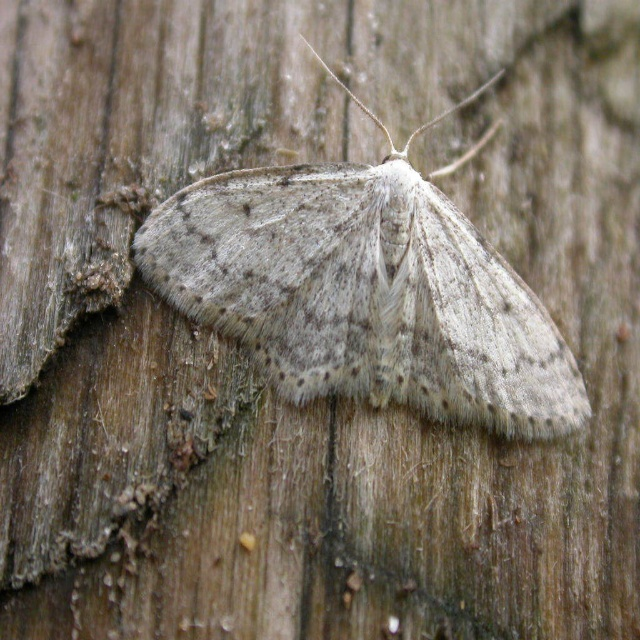Moths and butterflies: (128, 31, 596, 439)
